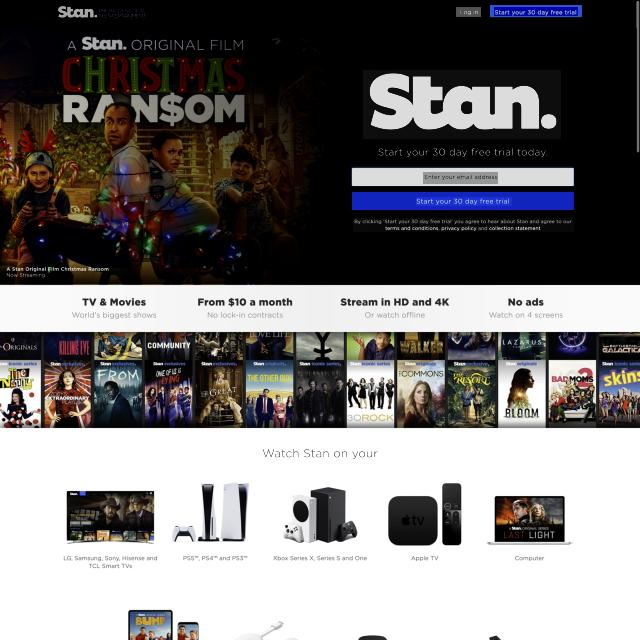CheckBox: (352, 191, 574, 211), (490, 6, 582, 20), (456, 7, 481, 17)
CheckedTextView: (351, 166, 574, 186)
EditText-: (0, 284, 640, 332)
Input field: (353, 218, 574, 232), (376, 146, 550, 159)
bag: (0, 0, 635, 28)
breadcrumbs: (259, 443, 381, 462)
card: (0, 28, 637, 284)
data feed: (416, 197, 512, 206), (494, 8, 578, 16)
footer: (423, 172, 498, 184)
image: (363, 70, 561, 139)
